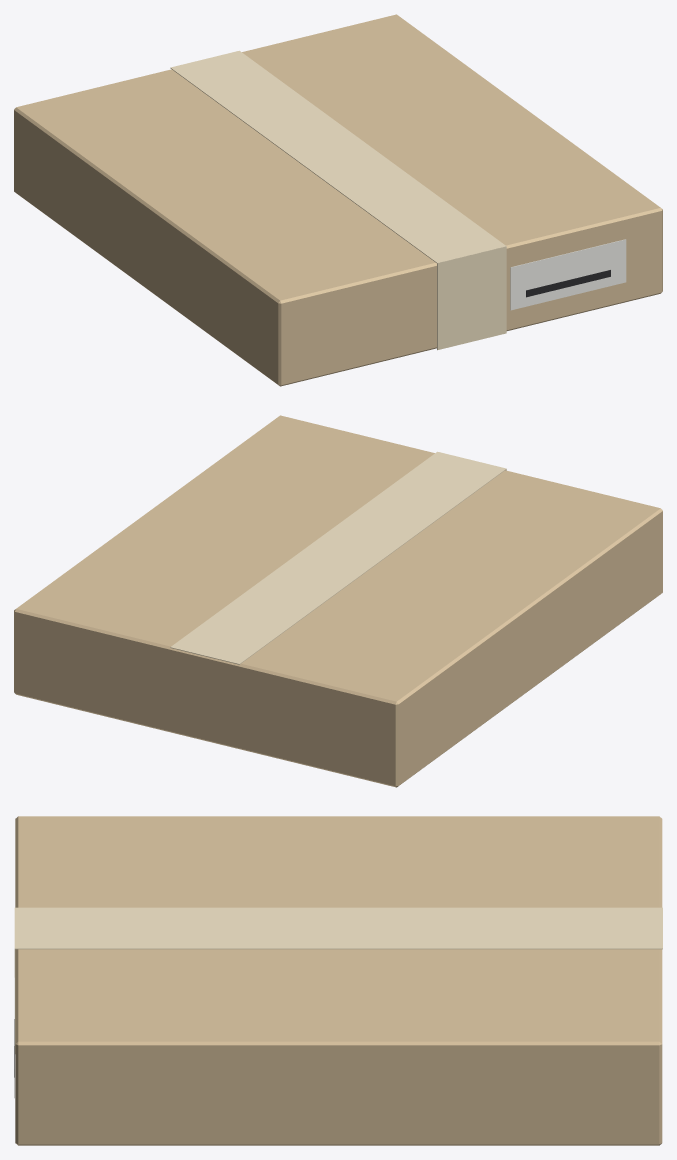
The model's file is crate_1u.fbx.
The picture shows the model from 3 angles, top to bottom: view 1: azimuth 30°, elevation 25°; view 2: azimuth 150°, elevation 25°; view 3: azimuth 270°, elevation 25°; orthographic projection. The views are drawn at different scales.
Visible parts, largest first — view 1: Carton; view 2: Carton; view 3: Carton.
Part boxes in pixels (<box>): Carton: <box>14,14,662,386</box>; Carton: <box>14,415,662,787</box>; Carton: <box>14,816,662,1145</box>.
Size of the model in its own units: 0.75 by 0.1622 by 0.9031.
